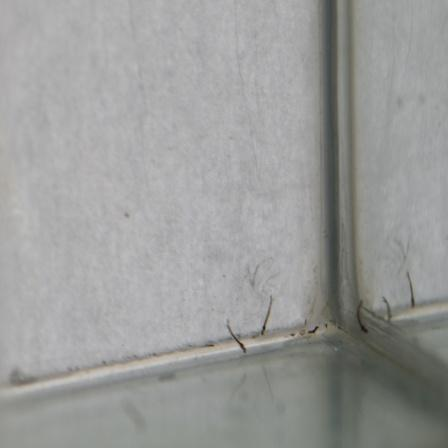Jentik-Nyamuk: (222, 319, 249, 357), (258, 293, 276, 338), (352, 297, 370, 338), (306, 324, 321, 337)
